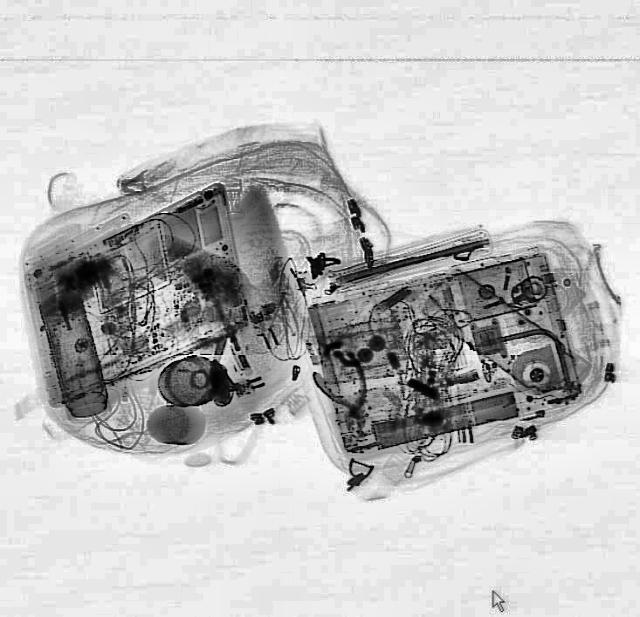Pliers: (310, 358, 382, 440)
